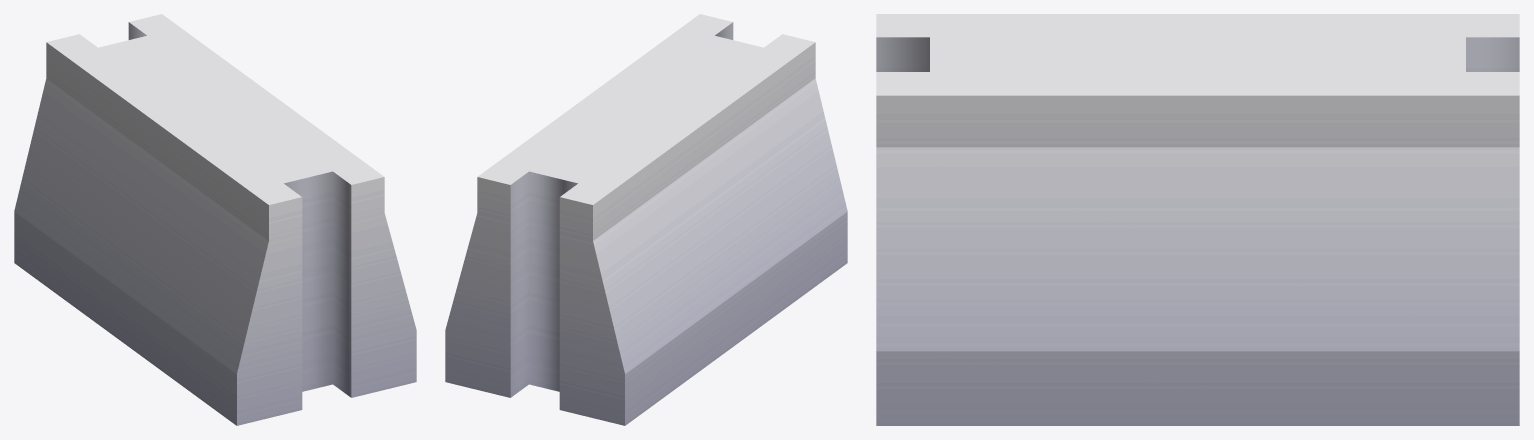
The model's file is construction-barrier.glb.
The picture shows the model from 3 angles, left to right: view 1: azimuth 30°, elevation 25°; view 2: azimuth 150°, elevation 25°; view 3: azimuth 270°, elevation 25°; orthographic projection. The views are drawn at different scales.
Visible parts, largest first — view 1: construction-barrier; view 2: construction-barrier; view 3: construction-barrier.
Boxes of the visible parts, <box> form: construction-barrier: <box>14,14,416,425</box>; construction-barrier: <box>445,14,847,425</box>; construction-barrier: <box>876,14,1519,425</box>.
Size of the model in its own units: 0.105 by 0.1188 by 0.225.
1 material, 1 textured.
